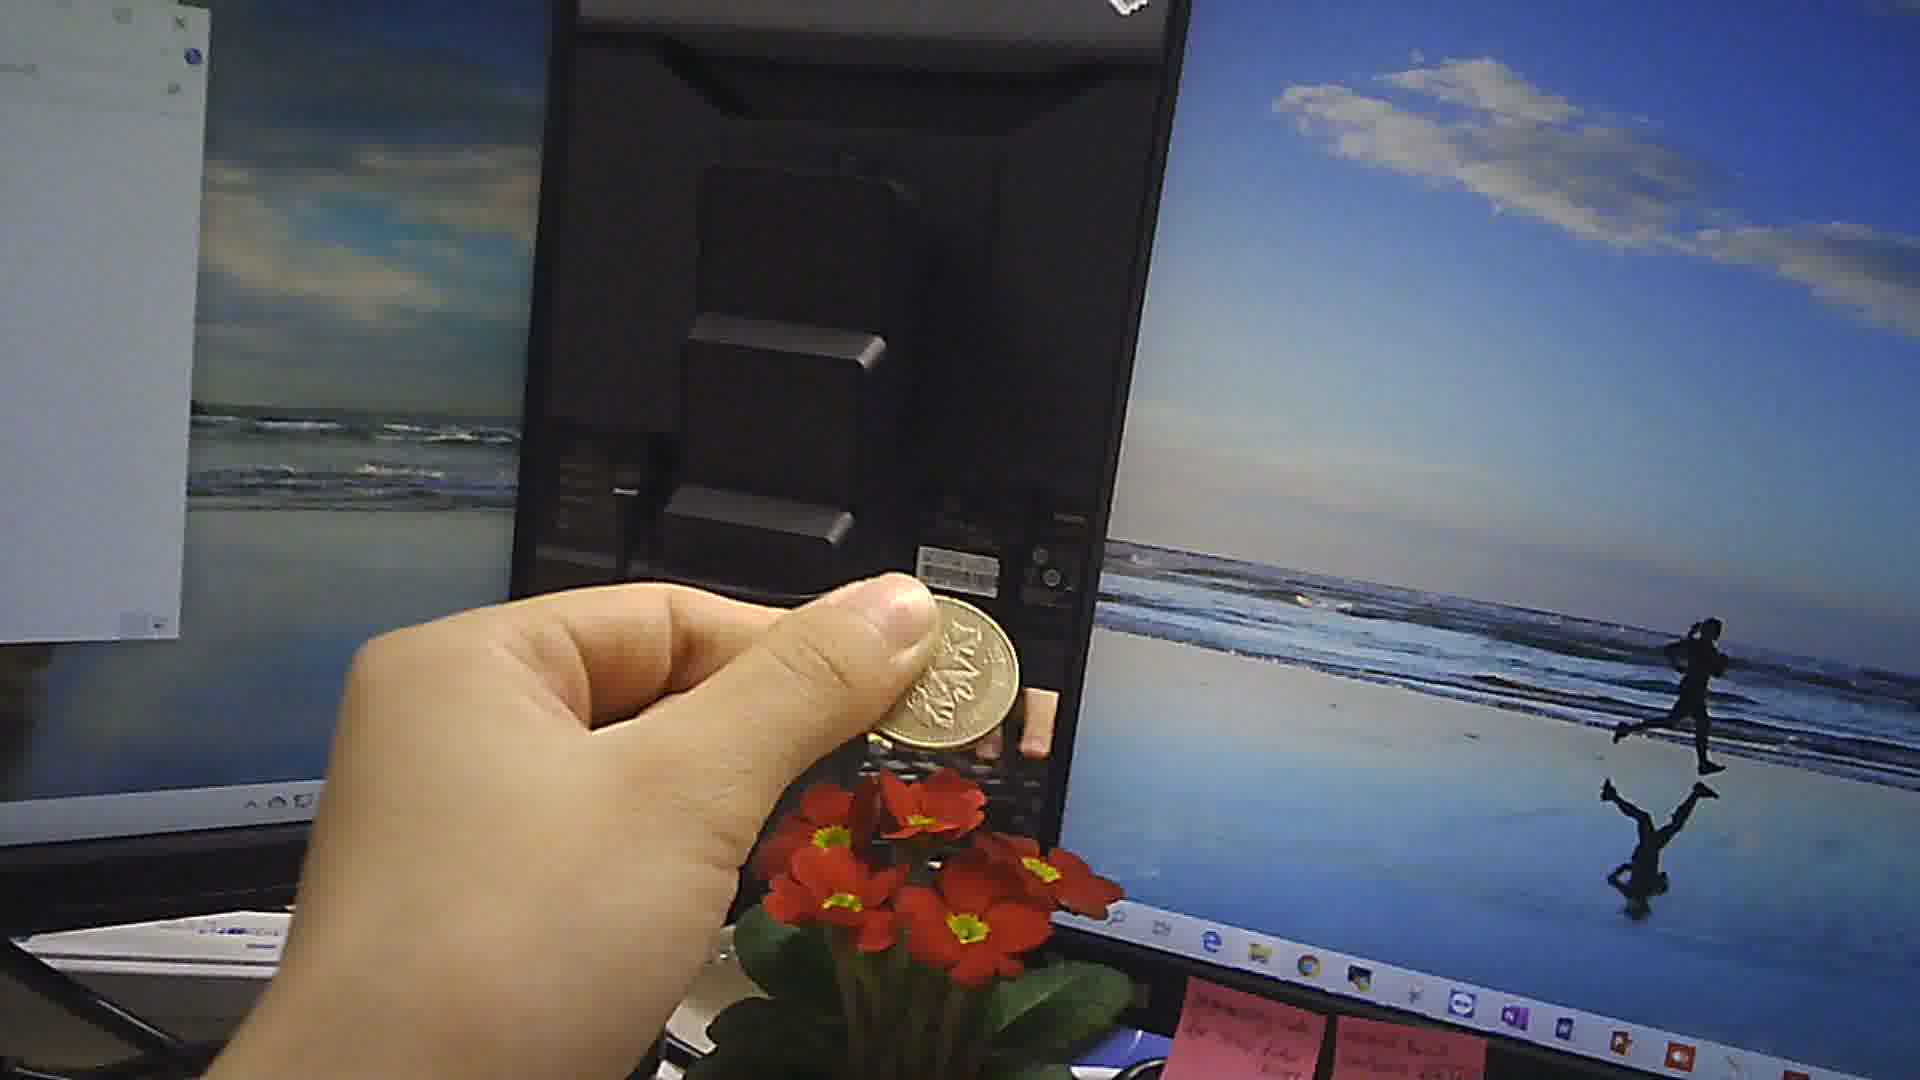500 Yen: (851, 582, 1029, 760)
